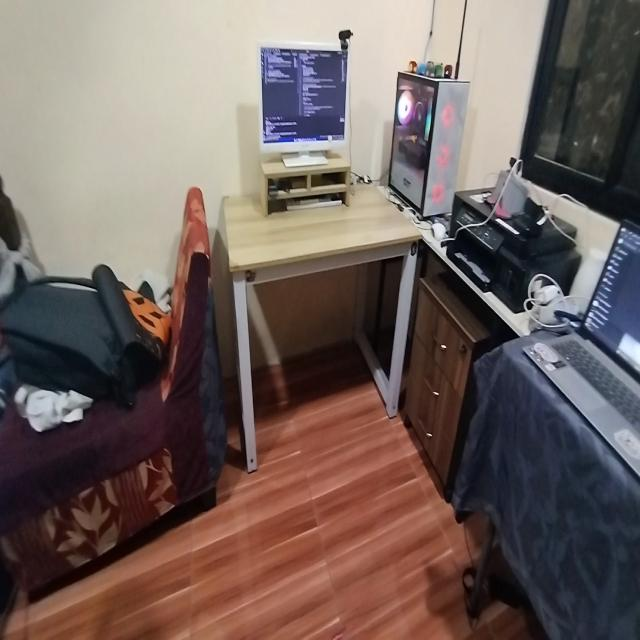table: (217, 162, 424, 456)
